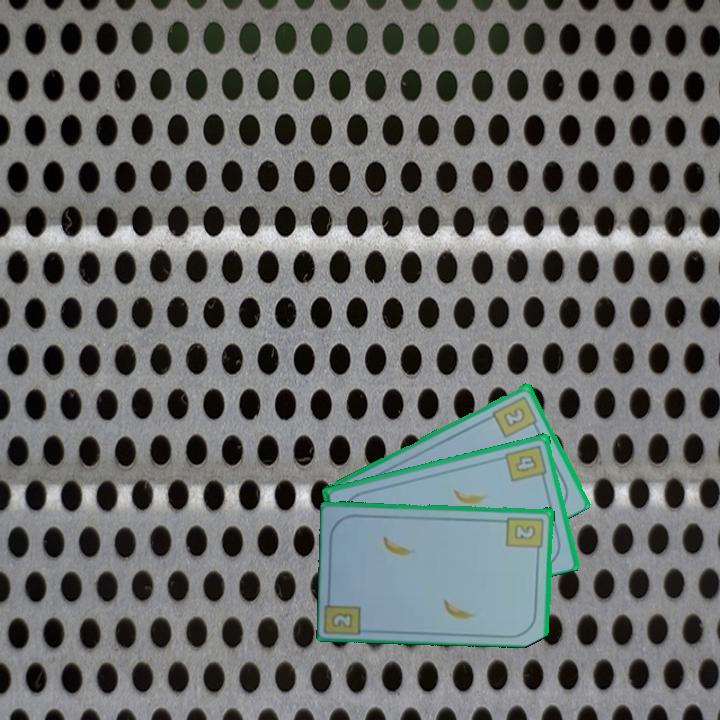2b: (489, 392, 541, 440), (504, 513, 546, 556), (329, 609, 356, 631)
4b: (502, 441, 550, 484)
